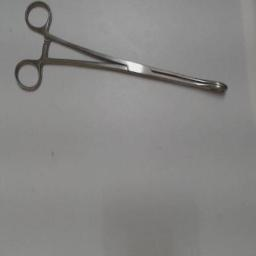Sponge Forceps: (12, 1, 232, 99)
